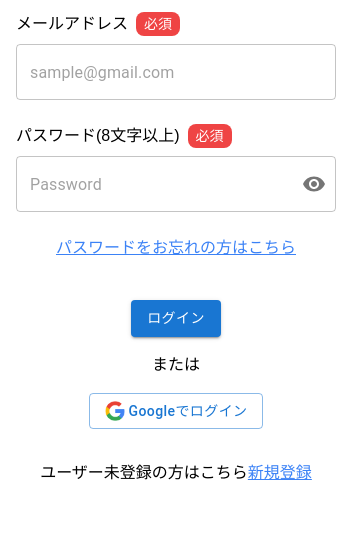
Test case: Login Component › バリデーションエラーが正しく表示される
The width and height of the screenshot is (353, 545).
Click the button with aria-label "login-button" at (176, 318), box [131,300,221,336]
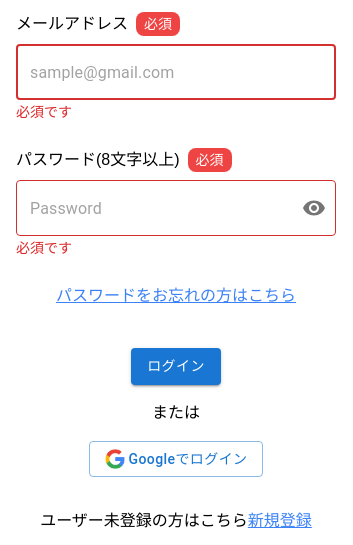
Result: the text "必須です" is shown 2 times at [16,104,72,120]; [16,240,72,256]
Result: the 1st text "必須です" is shown at [16,104,72,120]
Result: the 2nd text "必須です" is shown at [16,240,72,256]
